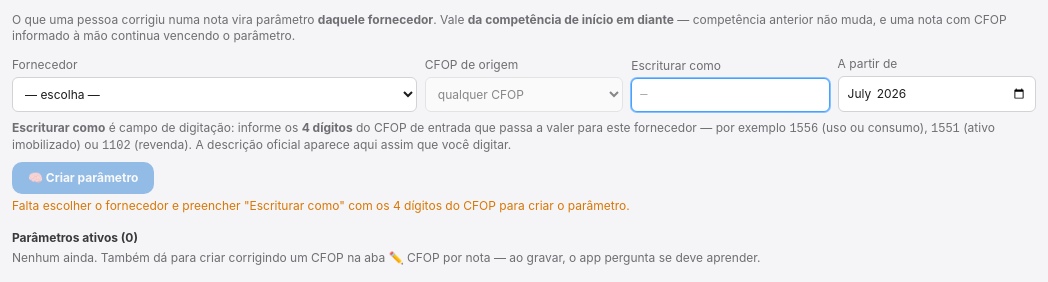
Test: o campo vazio DIZ que é de digitação › digitado, o destaque sai e a DESCRIÇÃO OFICIAL toma o lugar da dica
The image size is (1048, 282).
Type "1556" into the field labelled "Escriturar como".
click(730, 95); type("1556")  # box [631, 78, 830, 112]
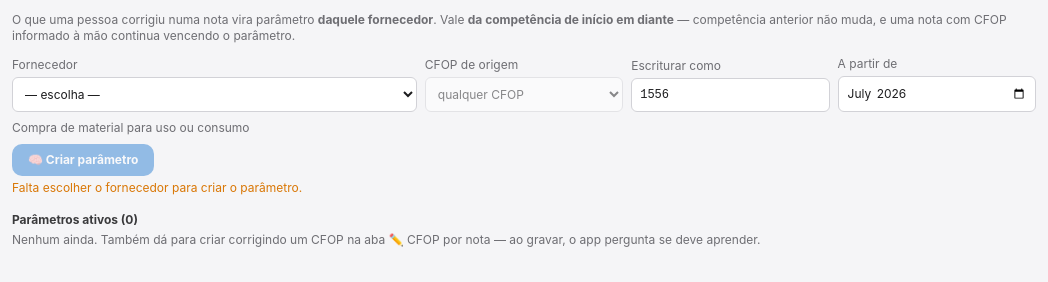
Check: the text "é campo de digitação" is gone
Check: the text "Compra de material para uso ou consumo" is shown, box [12, 120, 250, 135]
